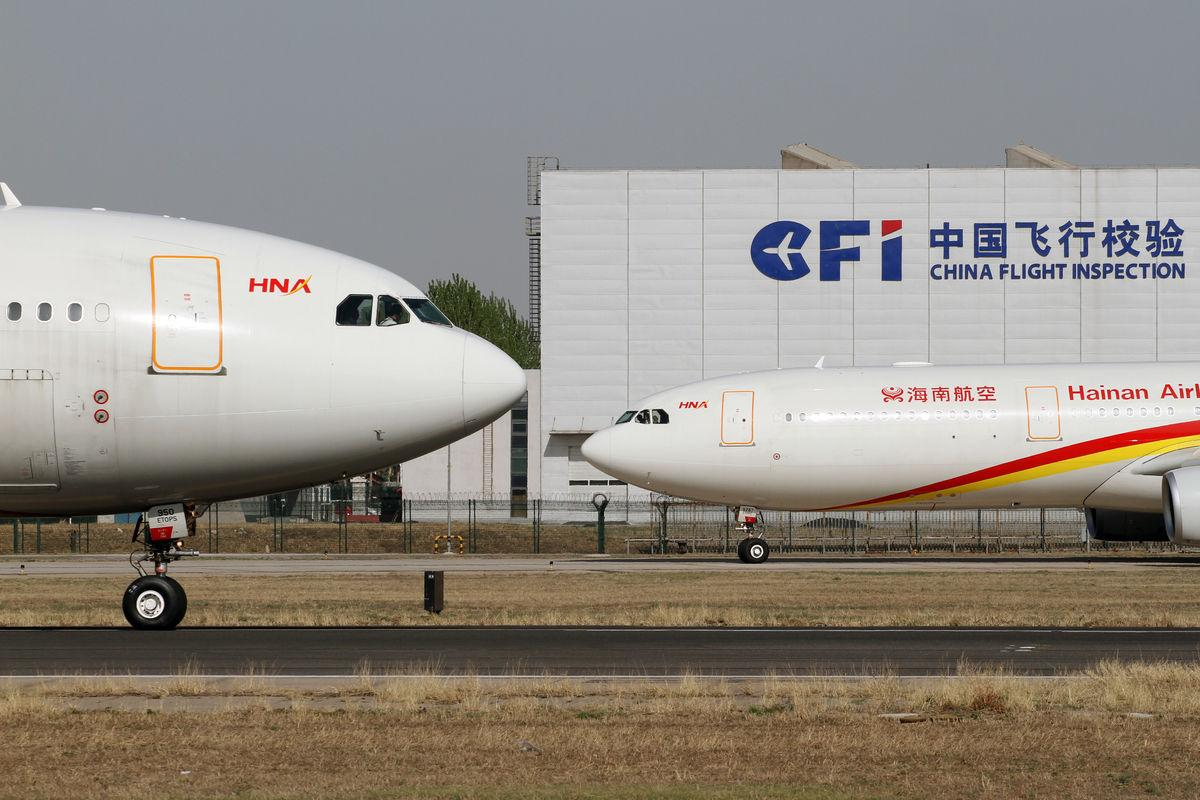airplane: (1, 178, 532, 617), (574, 355, 1200, 541)
